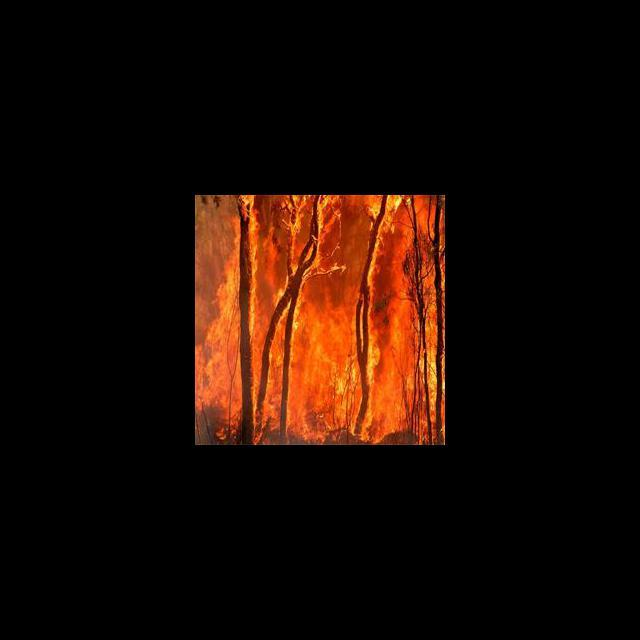Fire: (196, 195, 445, 442)
